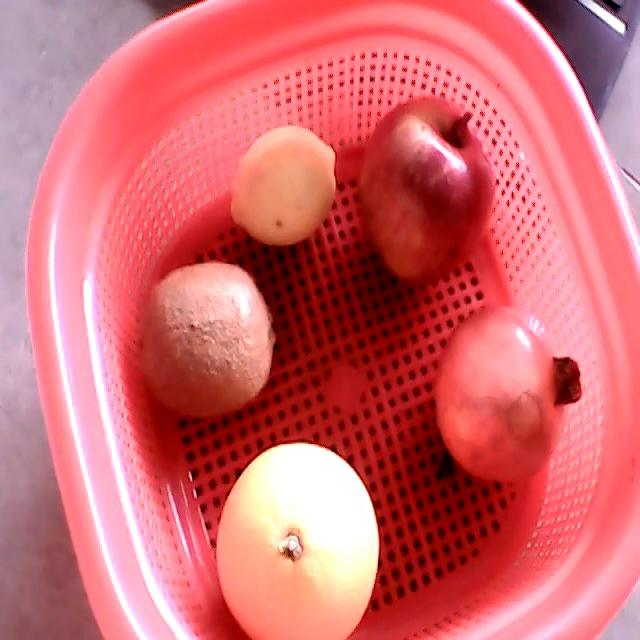apple: (357, 96, 497, 286)
kiwi: (139, 262, 276, 417)
lemon: (228, 123, 336, 246)
orange: (216, 442, 379, 639)
pomegranate: (436, 306, 582, 481)
